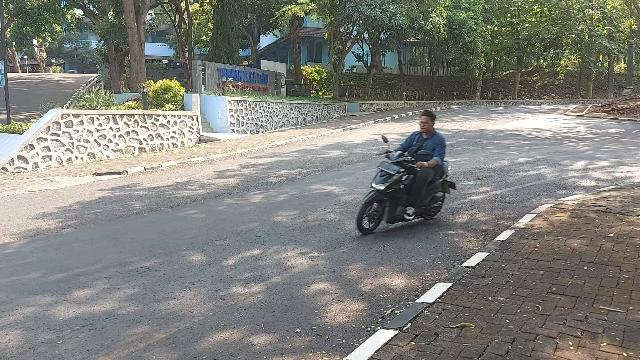motor: (357, 137, 457, 235)
non-helm: (419, 111, 437, 134)
